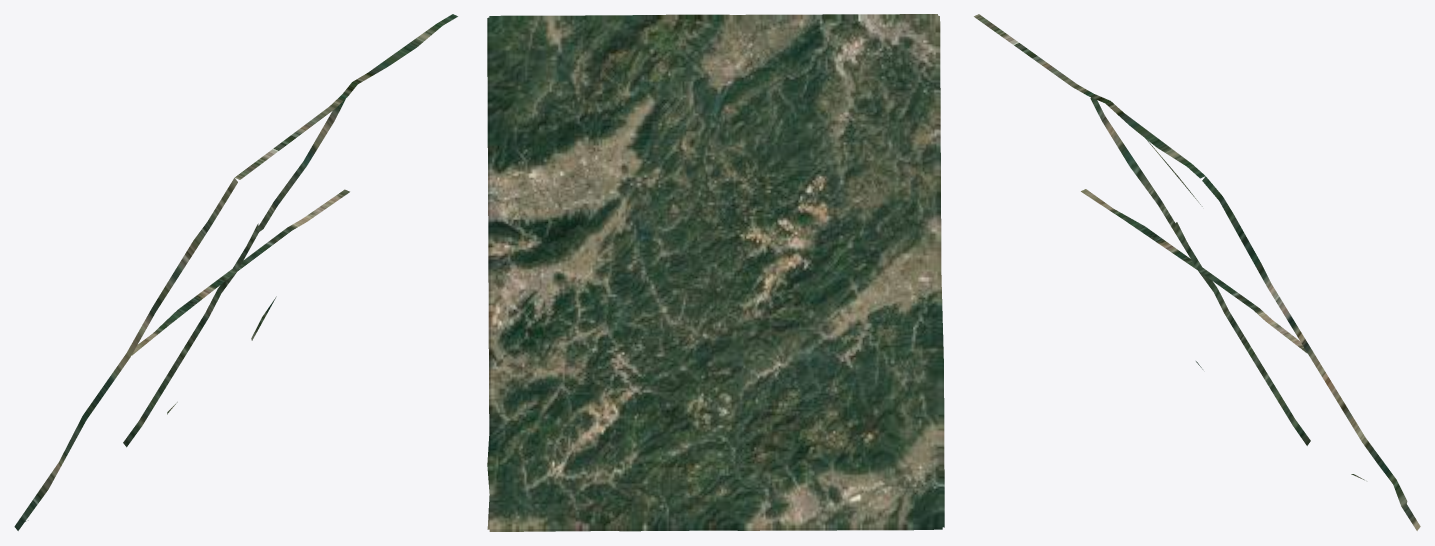
The picture shows the model from 3 angles, left to right: view 1: azimuth 30°, elevation 25°; view 2: azimuth 150°, elevation 25°; view 3: azimuth 270°, elevation 25°; orthographic projection.
Size of the model in its own units: 79598 by 69552 by 68722.
1 material, 1 textured.
